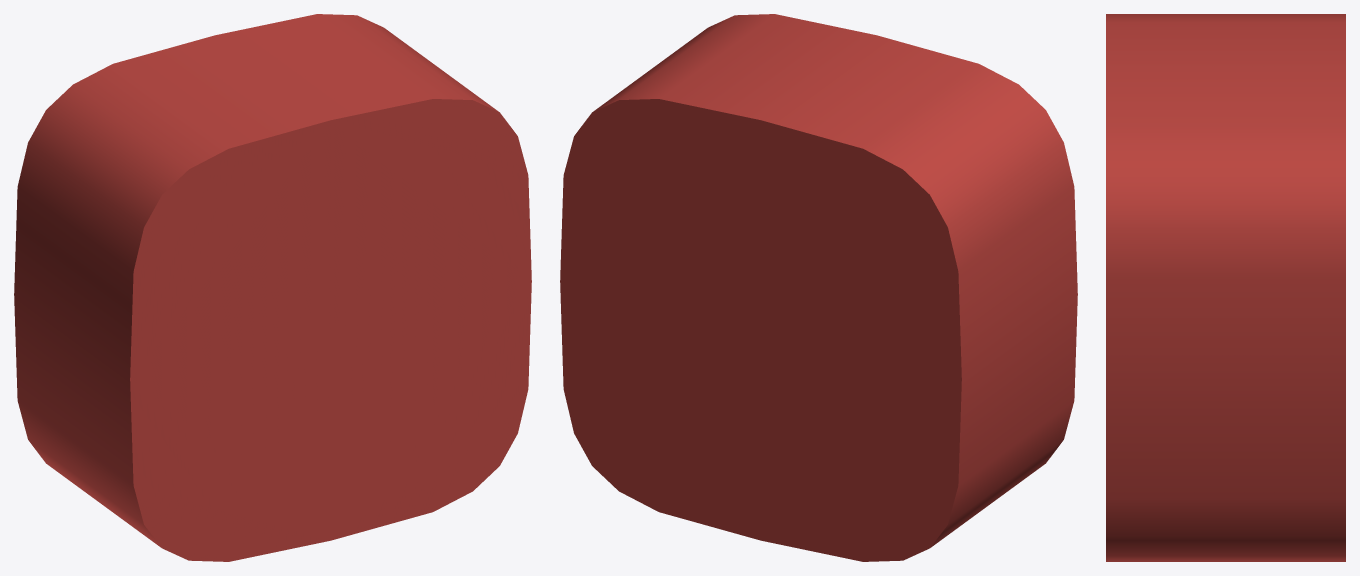
Rendered from spar_beam.glb.
3 renders of one model, left to right at view 1: azimuth 30°, elevation 25°; view 2: azimuth 150°, elevation 25°; view 3: azimuth 270°, elevation 25°, orthographic. The views are drawn at different scales.
Visible parts, largest first — view 1: lod0; view 2: lod0; view 3: lod0.
Boxes of the visible parts, left/top/right/bottom form: lod0: left=14, top=14, right=531, bottom=561; lod0: left=560, top=14, right=1077, bottom=561; lod0: left=1106, top=14, right=1345, bottom=561.
Size of what is drawn, in the model's own units: 2 by 2 by 1.
